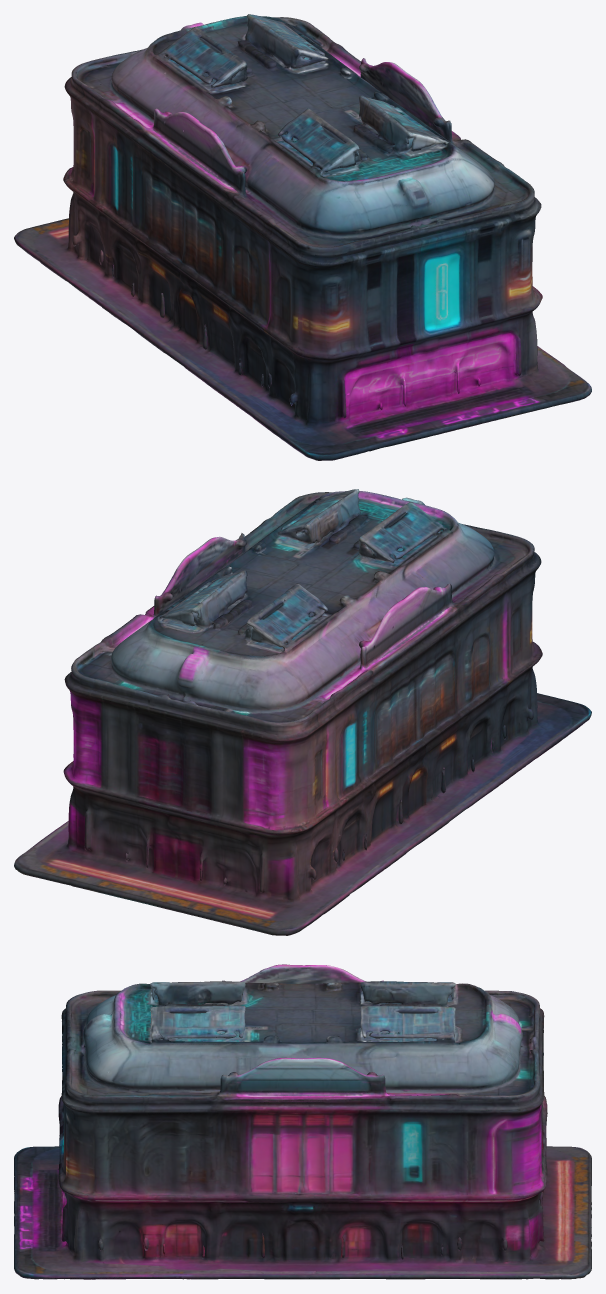
The model's file is building_blending_Roc_0213120635.fbx.
The picture shows the model from 3 angles, top to bottom: view 1: azimuth 30°, elevation 25°; view 2: azimuth 150°, elevation 25°; view 3: azimuth 270°, elevation 25°; orthographic projection. The views are drawn at different scales.
Parts seen in each view (by area): view 1: Mesh_0; view 2: Mesh_0; view 3: Mesh_0.
Boxes of the visible parts, bbox=[...] form: Mesh_0: bbox=[14, 14, 591, 460]; Mesh_0: bbox=[14, 489, 591, 935]; Mesh_0: bbox=[14, 964, 591, 1279].
Bounding box in the file's own units: 106 × 84.7 × 200.
Materials: 1 (1 with a texture image).
